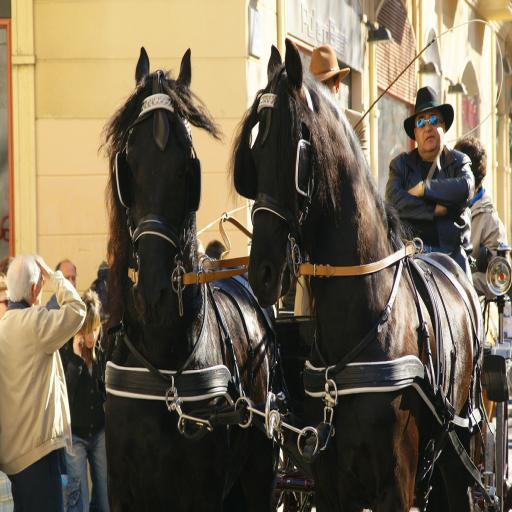Horse: (228, 38, 486, 512), (94, 44, 276, 512)
